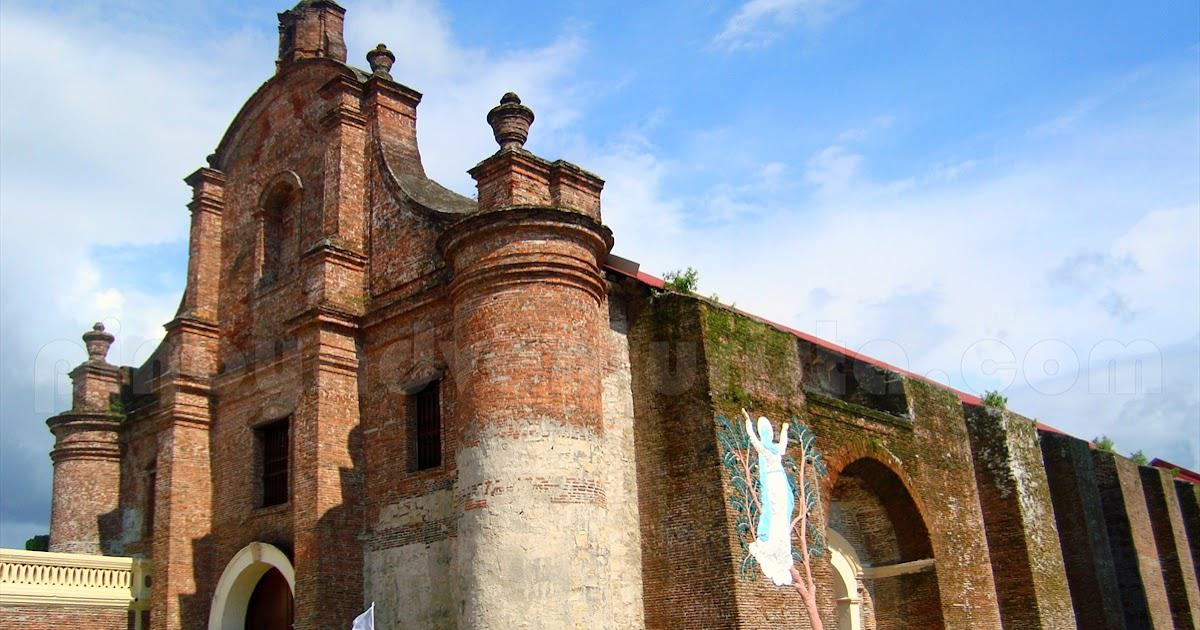Environmental Damage: (709, 312, 796, 368), (657, 262, 702, 317), (105, 385, 155, 428)
Sta. Maria Church: (43, 1, 634, 630)
Unfinished Paint: (432, 437, 651, 623)
